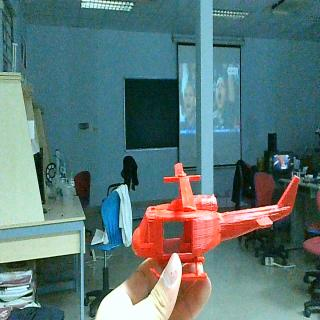Helicopter: (132, 161, 301, 281)
